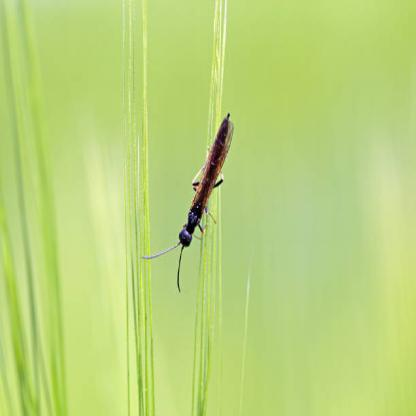sawfly: (138, 103, 237, 288)
